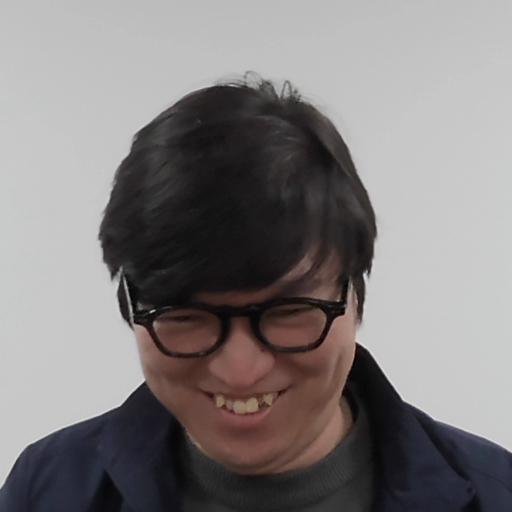no_glasses: (98, 74, 378, 472)
